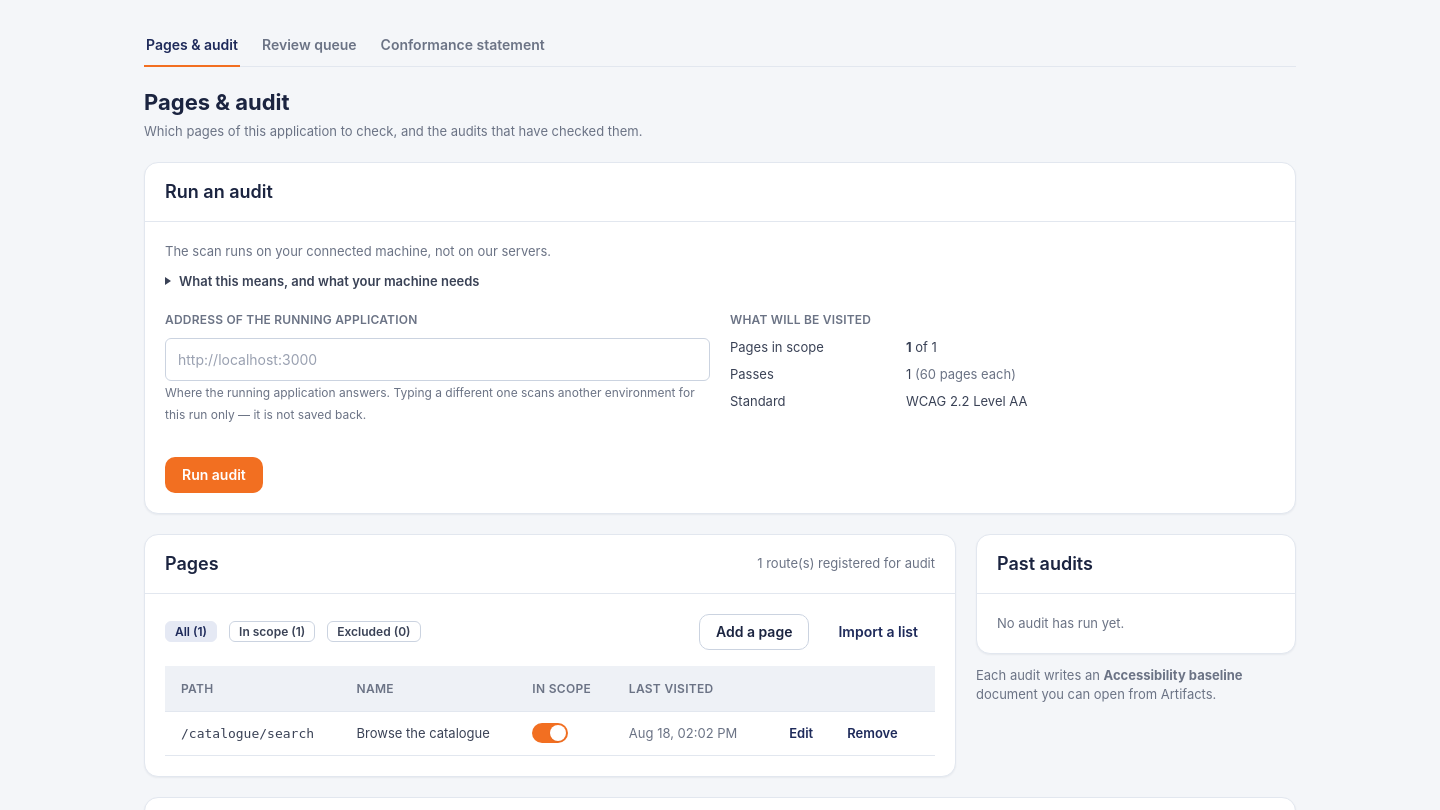
Test: S-38 editing one page › renaming a page that has recorded problems says what stays behind
The image size is (1440, 810).
Click the button "Edit". click: [801, 733]
box: [778, 720, 824, 746]
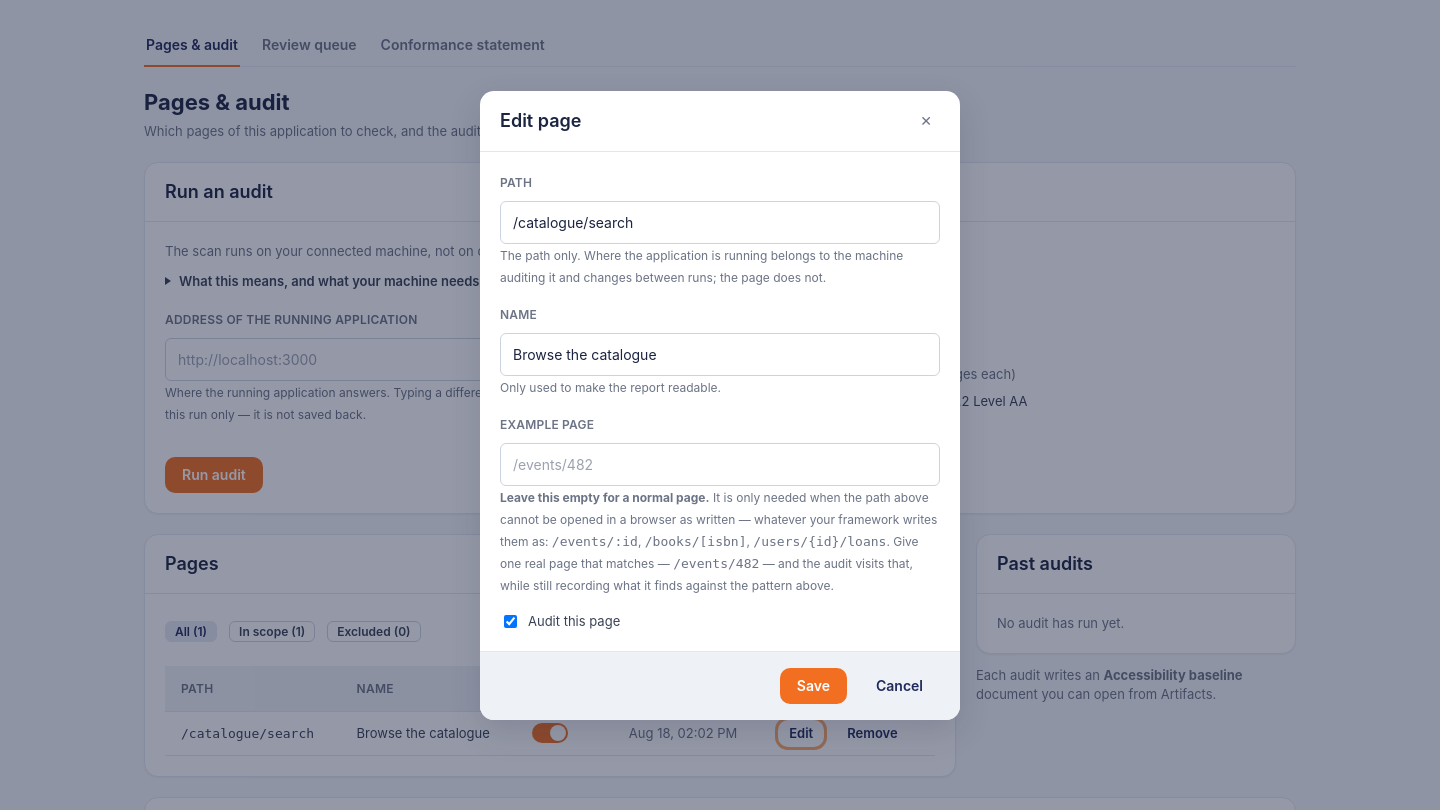
Clear the field labelled "Path". click: [720, 222]
box: [500, 200, 940, 244]
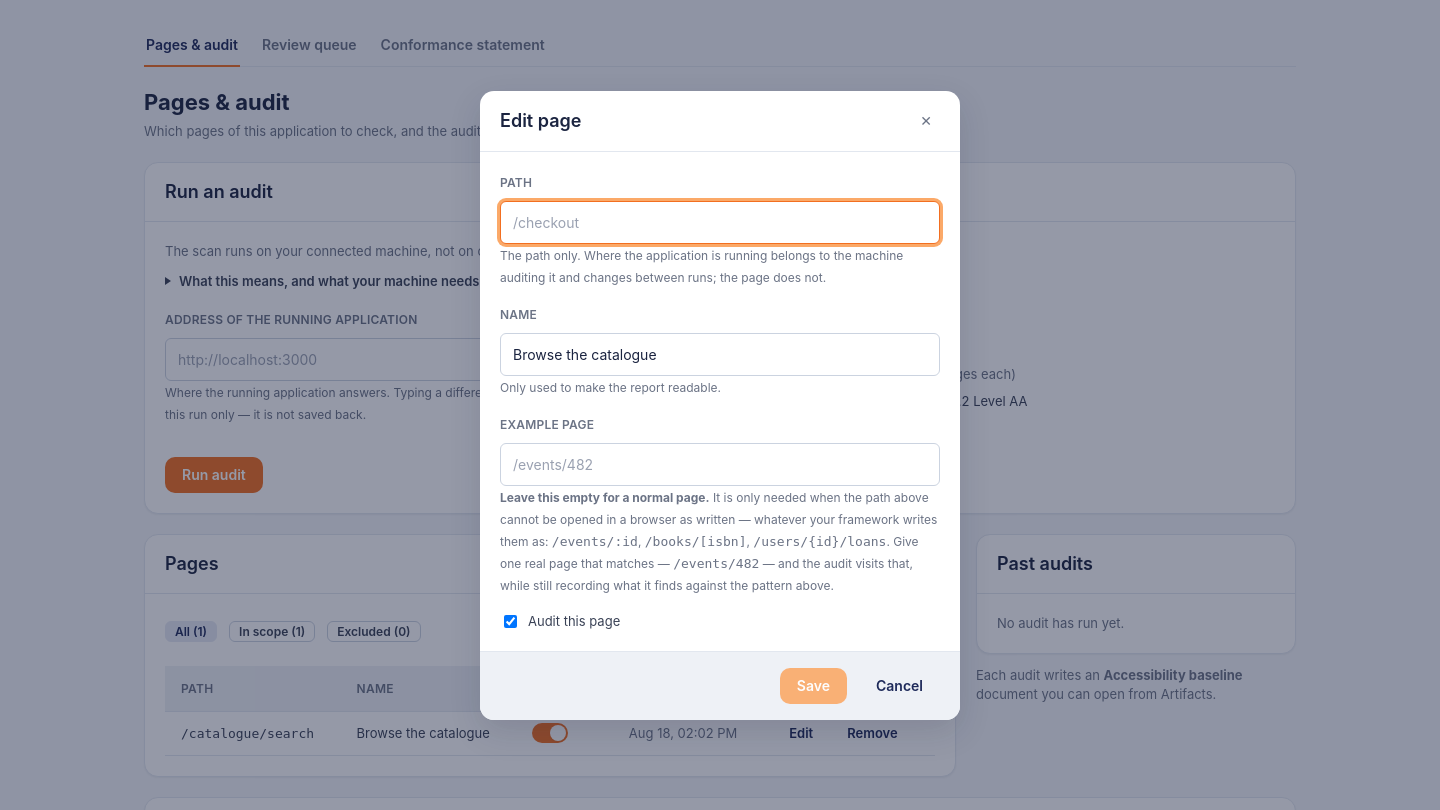
Type keys "/catalogue/results"
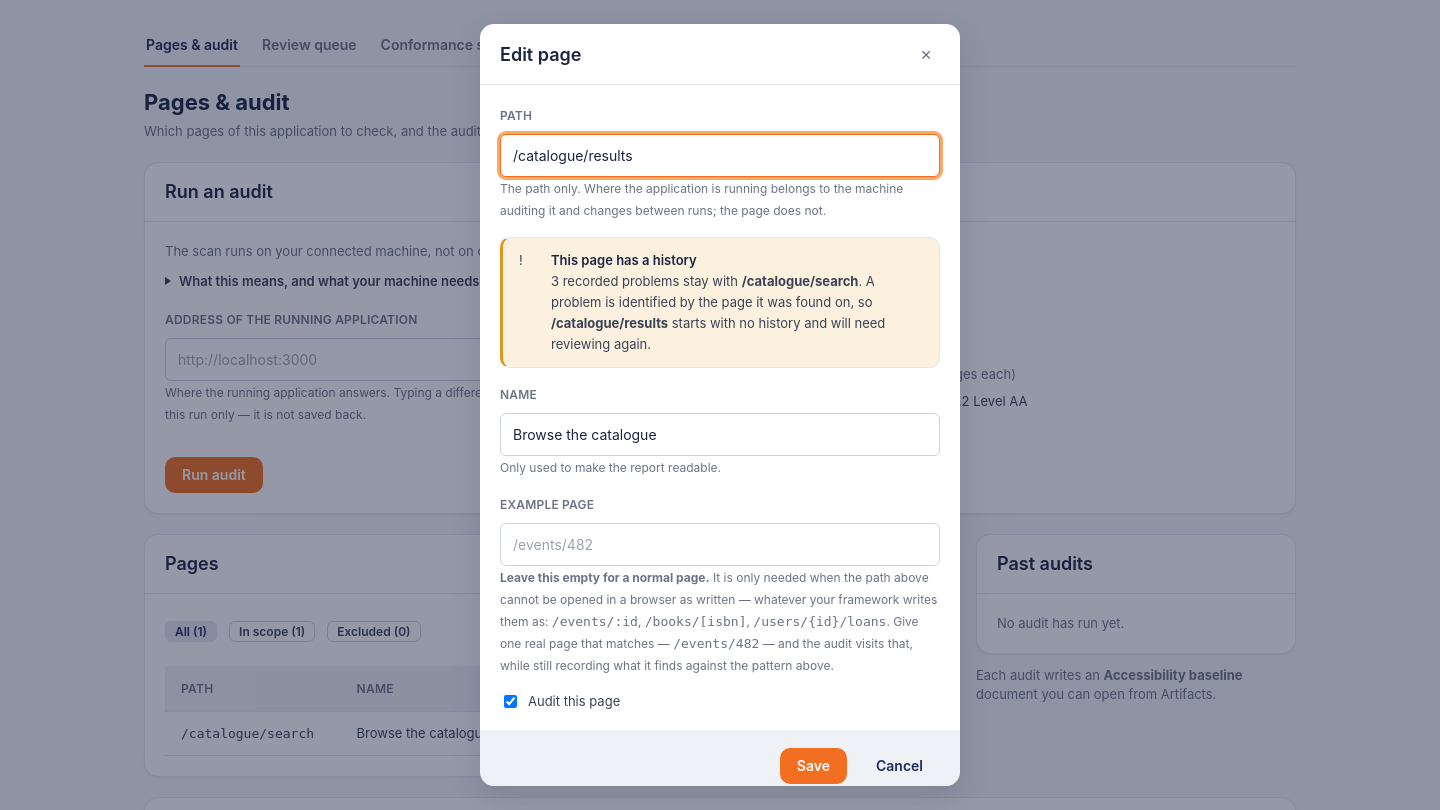
Expected: the text "This page has a history" is shown, [551, 252, 697, 268]
Expected: the text "3 recorded problems stay with" is shown, [551, 250, 923, 355]
Expected: the text "starts with no history" is shown, [551, 315, 885, 352]
